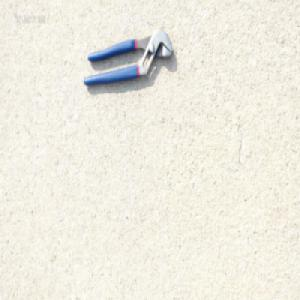Pliers: (82, 26, 173, 87)
